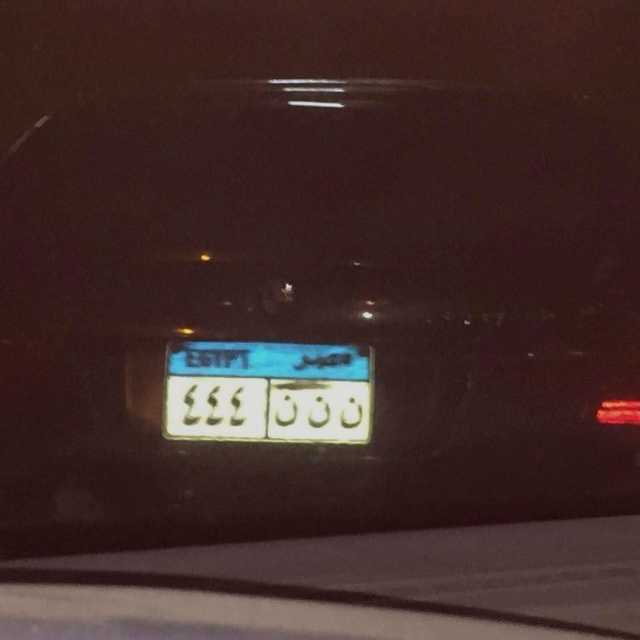License Plate: (159, 335, 374, 447)
